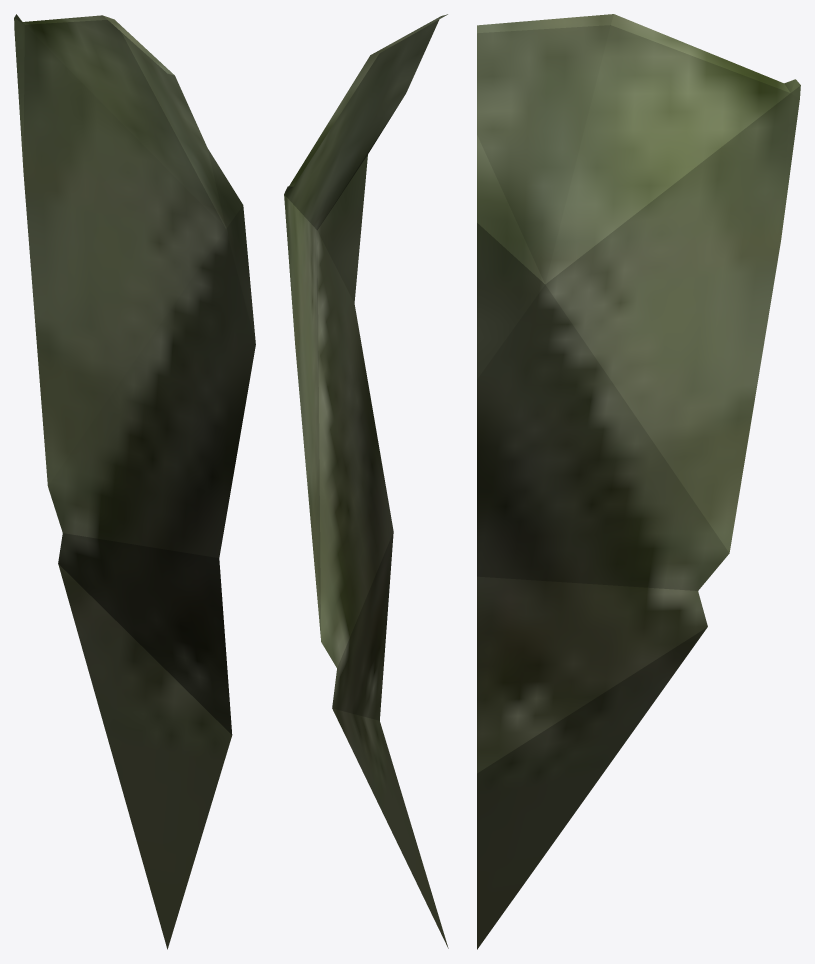
3 views of the same model, side by side, from view 1: azimuth 30°, elevation 25°; view 2: azimuth 150°, elevation 25°; view 3: azimuth 270°, elevation 25° (orthographic). The views are drawn at different scales.
Bounding box in the file's own units: 0.0691 × 0.6446 × 0.2021.
Materials: 1 (1 with a texture image).
